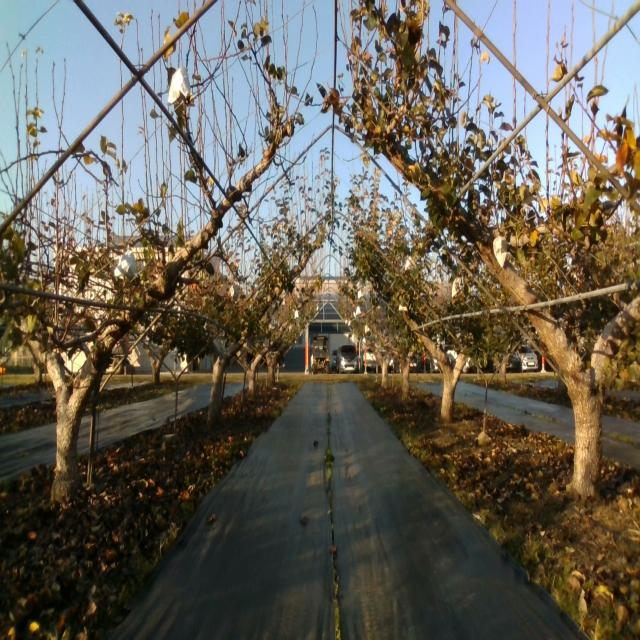pearbags: (167, 63, 190, 105), (113, 244, 137, 276), (492, 236, 508, 268), (451, 276, 464, 300)
